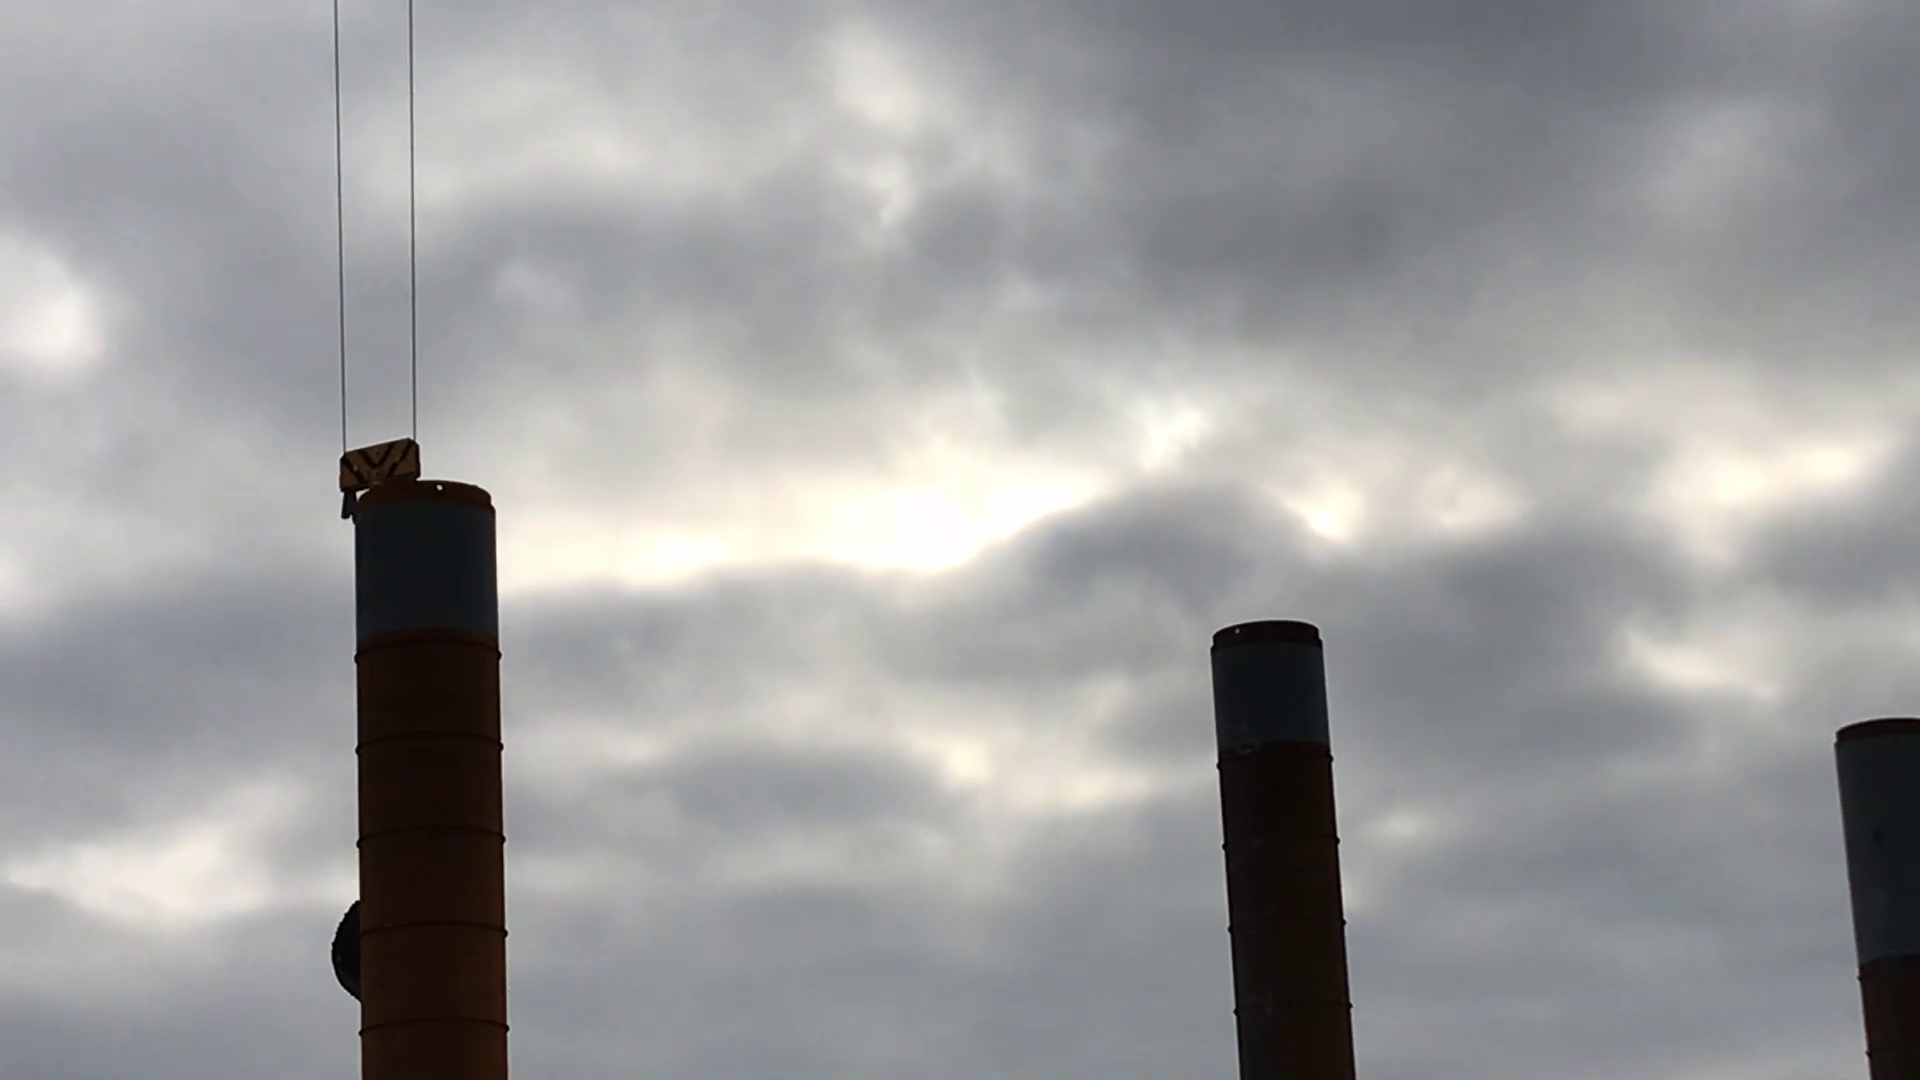hook: (330, 436, 431, 509)
